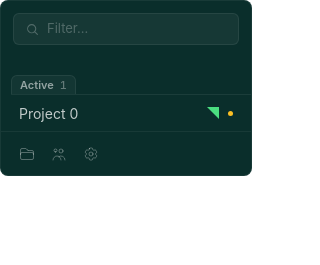
Sidebar component branches › shows a sidebar notice when session navigation fails
The image size is (320, 265).
Click the button named "Codex active". click: coordinates (213, 113)
box: [206,106,220,120]
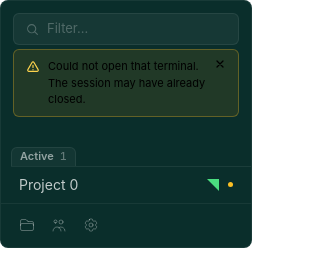
Expected: the text with test id "sidebar-notice-message" reads "Could not open that terminal. The session may have already closed.", [48,59,205,106]
